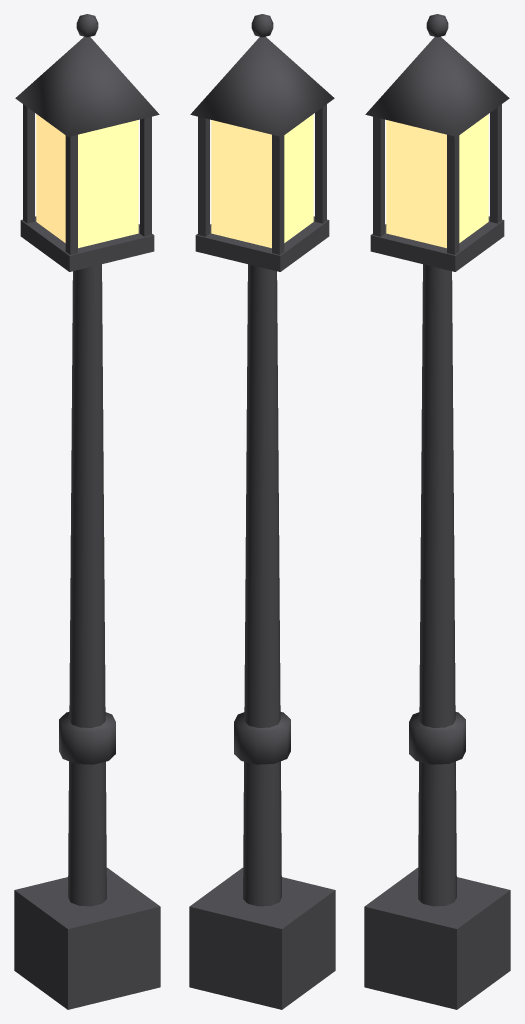
Rendered from lamp_post.glb.
3 views of the same model, side by side, from view 1: azimuth 30°, elevation 25°; view 2: azimuth 150°, elevation 25°; view 3: azimuth 330°, elevation 25° (orthographic).
Parts seen in each view (by area): view 1: lamp_post; view 2: lamp_post; view 3: lamp_post.
Boxes of the visible parts, <box> form: lamp_post: <box>14,14,160,1009</box>; lamp_post: <box>189,14,335,1009</box>; lamp_post: <box>364,14,510,1009</box>.
Size of the model in its own units: 0.6 by 5.97 by 0.6.
